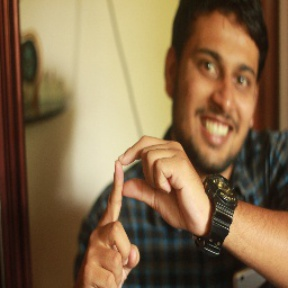P: (78, 129, 203, 288)
